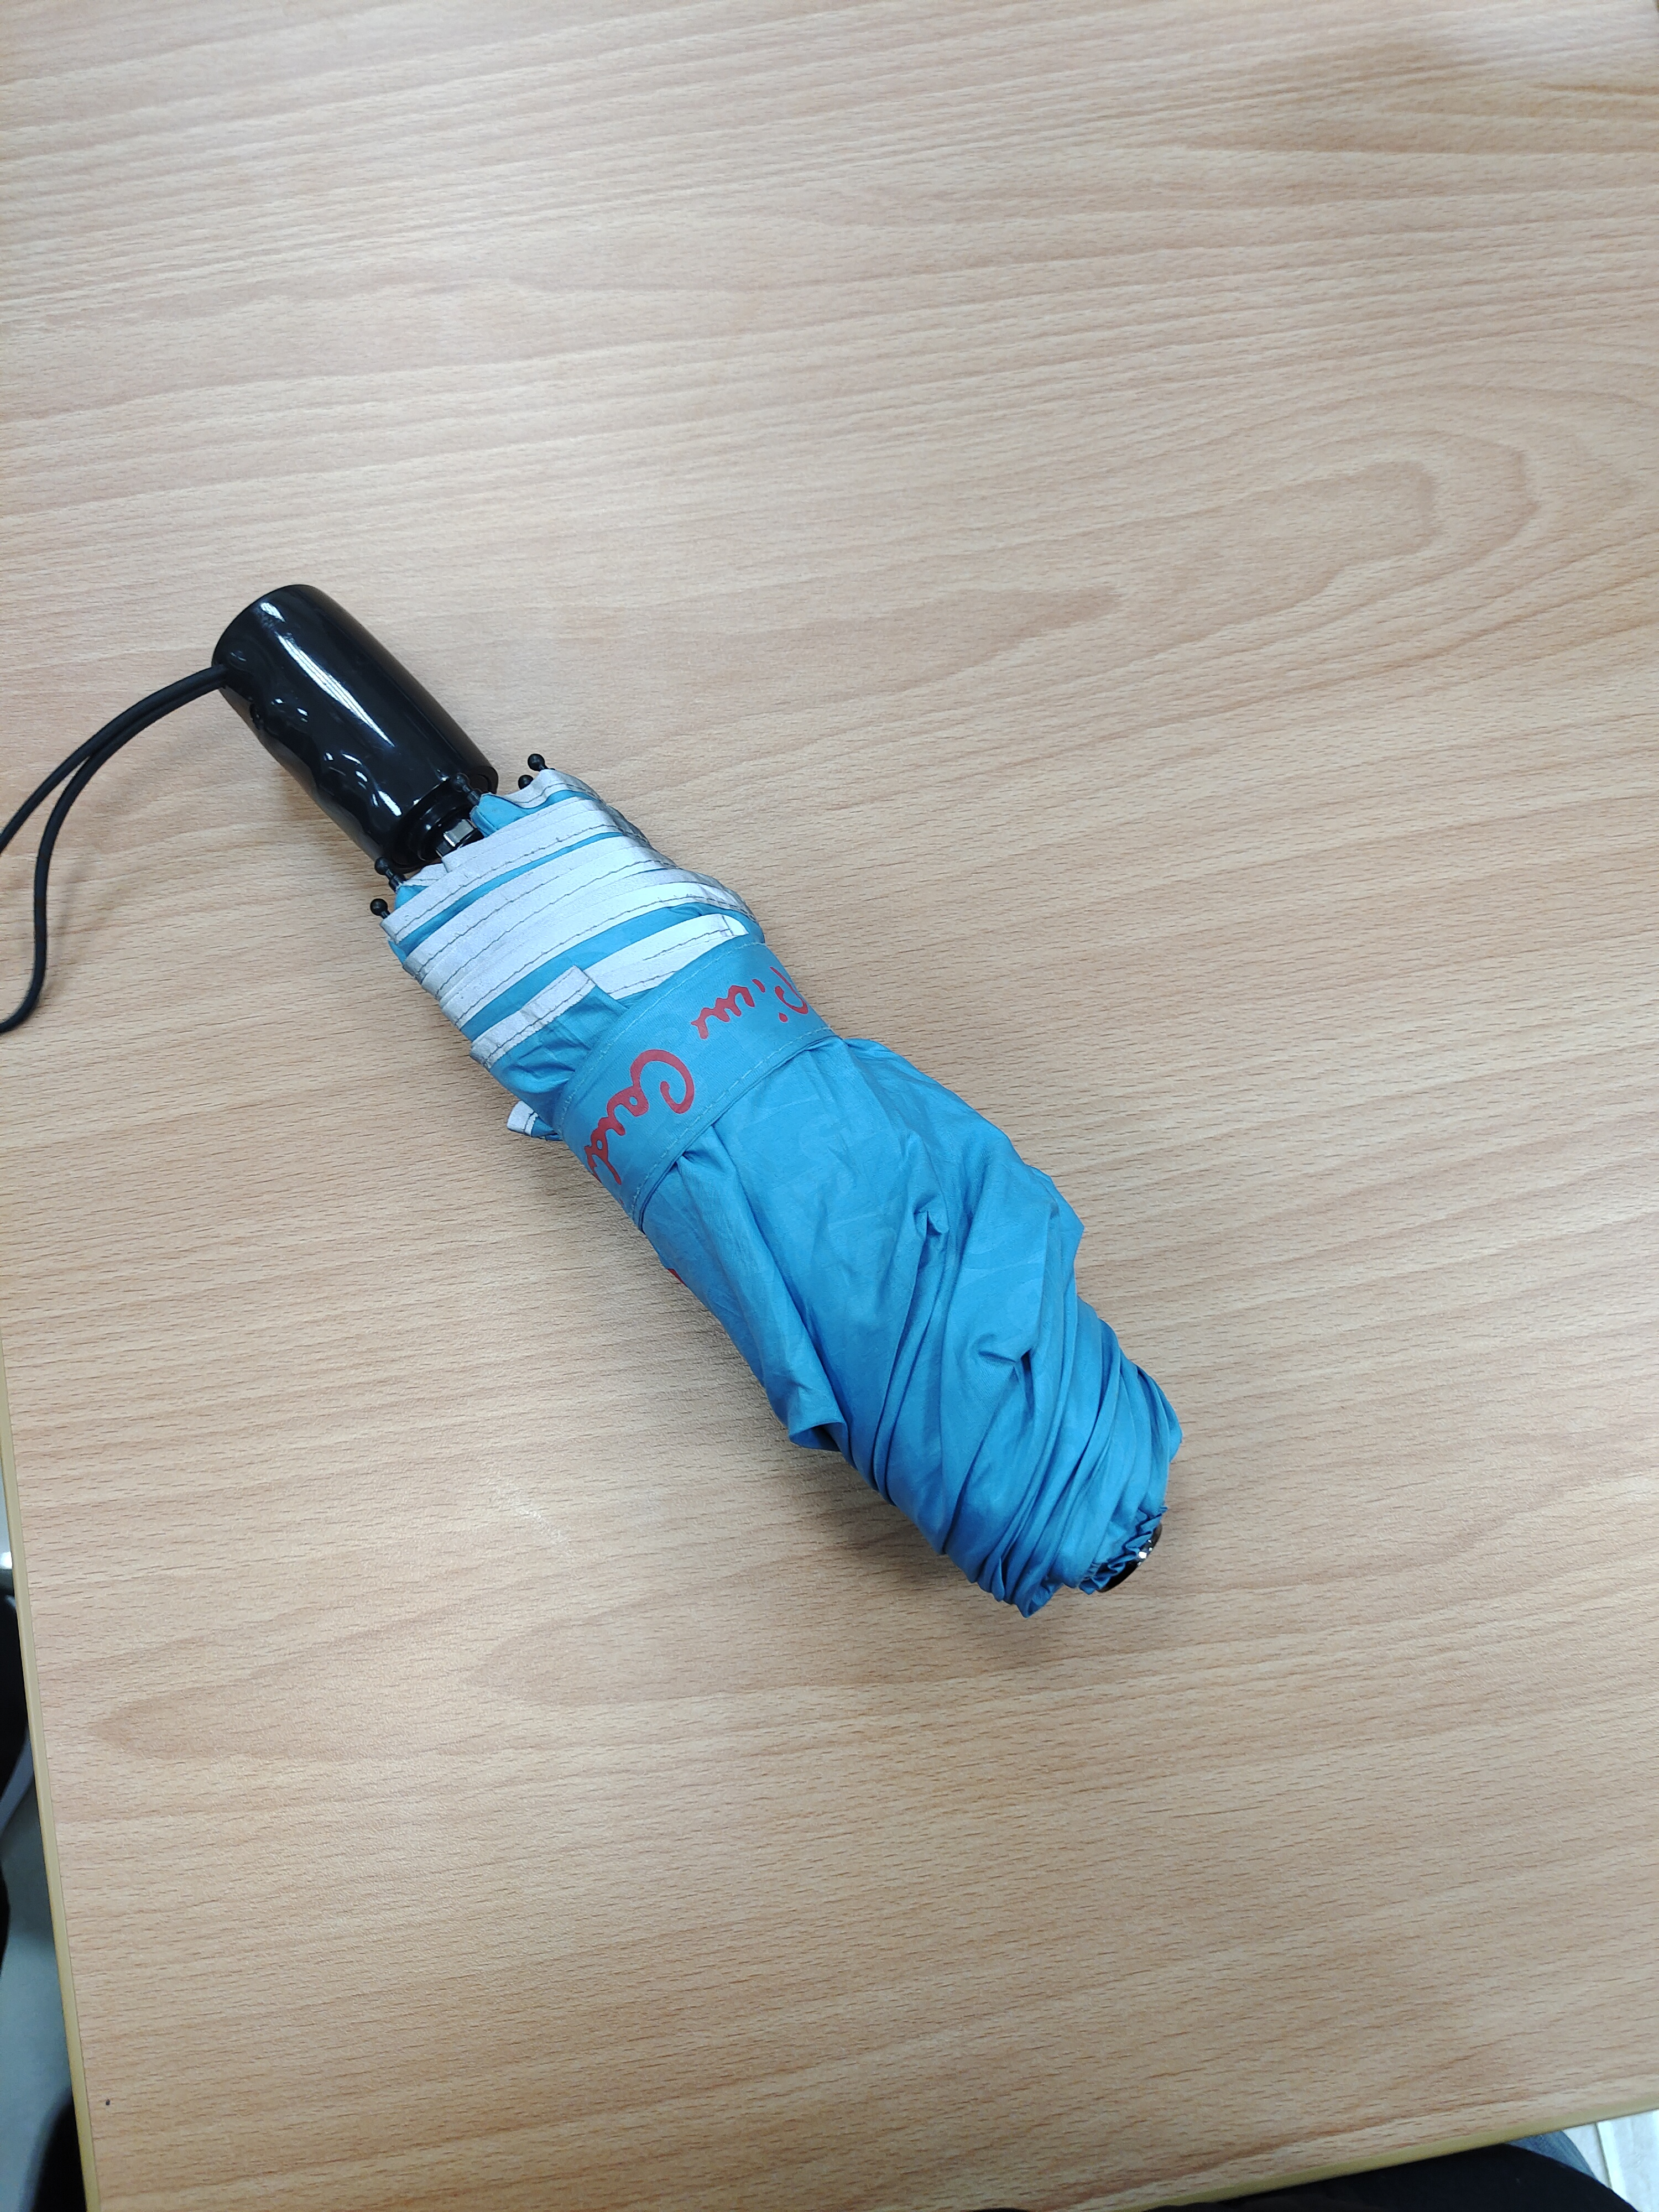Umbrella: (174, 536, 1283, 1663)
